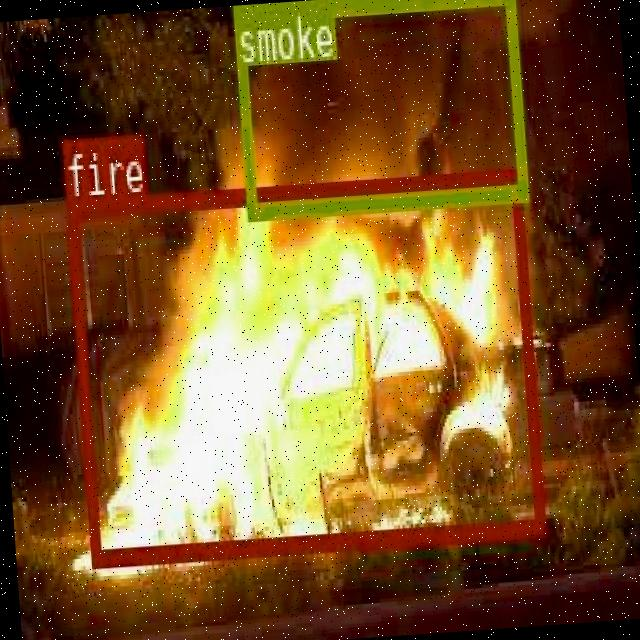fire: (64, 168, 542, 563)
smoke: (231, 0, 526, 218)
